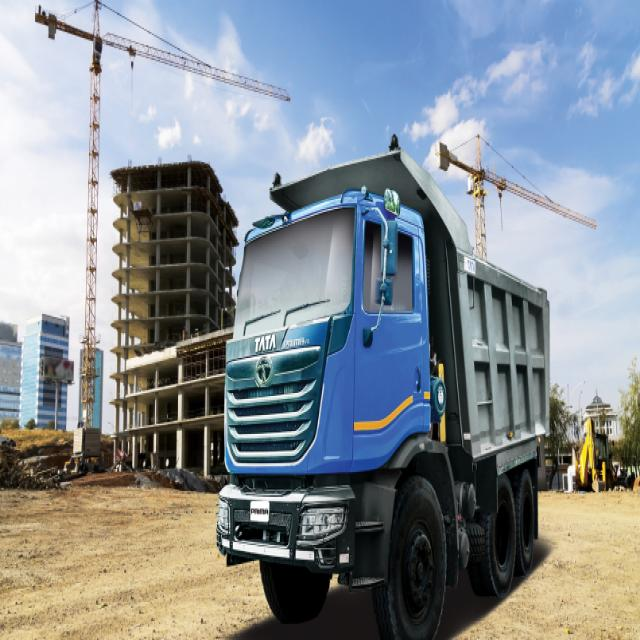dump_truck: (216, 158, 560, 637)
excavator: (570, 417, 614, 502)
